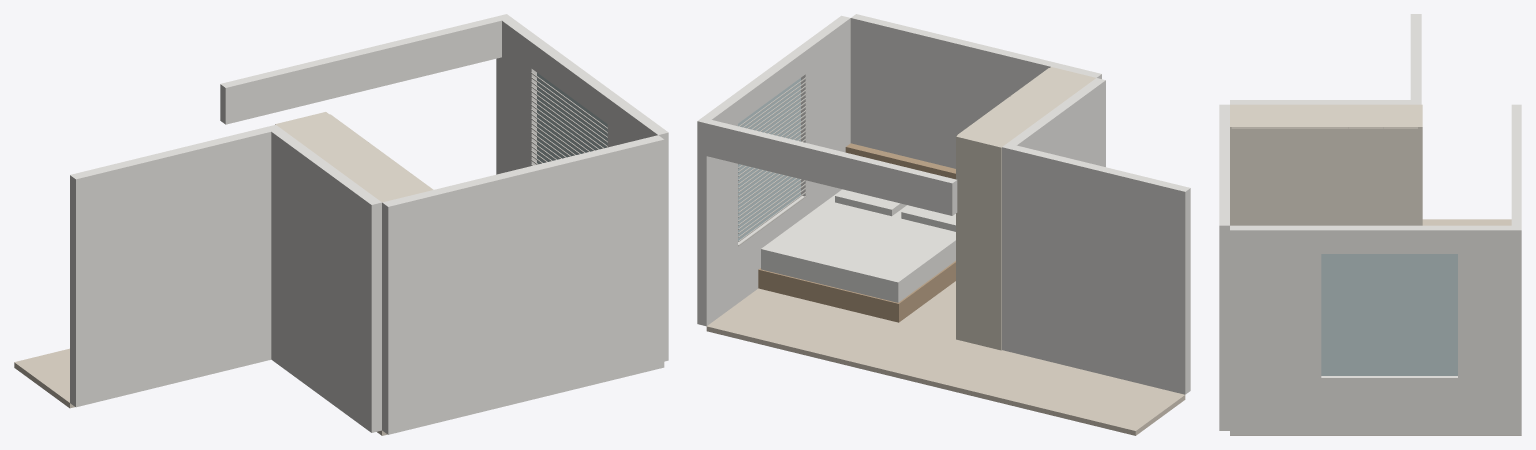
File: room_a.glb
3 renders of one model, left to right at view 1: azimuth 30°, elevation 25°; view 2: azimuth 150°, elevation 25°; view 3: azimuth 270°, elevation 25°, orthographic. The views are drawn at different scales.
Visible parts, largest first — view 1: 床頭牆 315 cm, 衛浴下隔間／門洞待補, 衛浴右隔間, 冷氣側包管 · 下垂40／突出11 cm, 窗側後牆, 頂天系統櫃 211.4×60×248.5 cm, 窗開口佔位（尺寸待量）, 窗側前牆, 窗上牆, 入口延伸地板; view 2: 衛浴下隔間／門洞待補, 床頭牆 315 cm, 睡眠區地板, 頂天系統櫃 211.4×60×248.5 cm, 床墊佔位, 入口延伸地板, 冷氣側包管 · 下垂40／突出11 cm, 窗側後牆, 衛浴右隔間, 窗側前牆, 木床架佔位, 窗開口佔位（尺寸待量） (+4 smaller); view 3: 窗側前牆, 窗開口佔位（尺寸待量）, 窗側後牆, 窗台下牆, 頂天系統櫃 211.4×60×248.5 cm, 窗上牆, 床頭牆 315 cm, 衣櫃下門板1（分件示意）, 衣櫃下門板2（分件示意）, 衣櫃下門板3（分件示意）, 衣櫃下門板4（分件示意）, 衣櫃下門板5（分件示意） (+9 smaller).
Boxes of the visible parts, <box> form: 床頭牆 315 cm: <box>382,135,664,434</box>; 衛浴下隔間／門洞待補: <box>70,127,271,407</box>; 衛浴右隔間: <box>265,124,381,432</box>; 冷氣側包管 · 下垂40／突出11 cm: <box>220,16,501,124</box>; 窗側後牆: <box>496,14,541,174</box>; 頂天系統櫃 211.4×60×248.5 cm: <box>275,112,432,202</box>; 窗開口佔位（尺寸待量）: <box>537,73,607,164</box>; 窗側前牆: <box>607,95,668,361</box>; 窗上牆: <box>531,40,617,123</box>; 入口延伸地板: <box>14,348,74,408</box>; 衛浴下隔間／門洞待補: <box>1011,145,1190,394</box>; 床頭牆 315 cm: <box>850,14,1101,168</box>; 睡眠區地板: <box>706,281,1000,390</box>; 頂天系統櫃 211.4×60×248.5 cm: <box>956,67,1095,350</box>; 床墊佔位: <box>761,189,955,302</box>; 入口延伸地板: <box>952,350,1185,435</box>; 冷氣側包管 · 下垂40／突出11 cm: <box>706,120,957,215</box>; 窗側後牆: <box>697,98,737,326</box>; 衛浴右隔間: <box>1002,78,1105,352</box>; 窗側前牆: <box>797,15,850,215</box>; 木床架佔位: <box>758,261,955,322</box>; 窗開口佔位（尺寸待量）: <box>738,78,800,240</box>; 窗側前牆: <box>1230,225,1321,435</box>; 窗開口佔位（尺寸待量）: <box>1321,254,1457,375</box>; 窗側後牆: <box>1458,225,1521,435</box>; 窗台下牆: <box>1321,376,1457,435</box>; 頂天系統櫃 211.4×60×248.5 cm: <box>1230,104,1422,225</box>; 窗上牆: <box>1321,225,1457,253</box>; 床頭牆 315 cm: <box>1219,104,1229,430</box>; 衣櫃下門板1（分件示意）: <box>1231,166,1270,225</box>; 衣櫃下門板2（分件示意）: <box>1270,166,1309,225</box>; 衣櫃下門板3（分件示意）: <box>1309,166,1348,225</box>; 衣櫃下門板4（分件示意）: <box>1348,166,1382,225</box>; 衣櫃下門板5（分件示意）: <box>1383,166,1417,225</box>.
Size of the model in its own units: 5.62 by 2.54 by 3.32.
